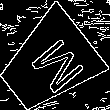M_SW: (15, 30, 81, 97)
